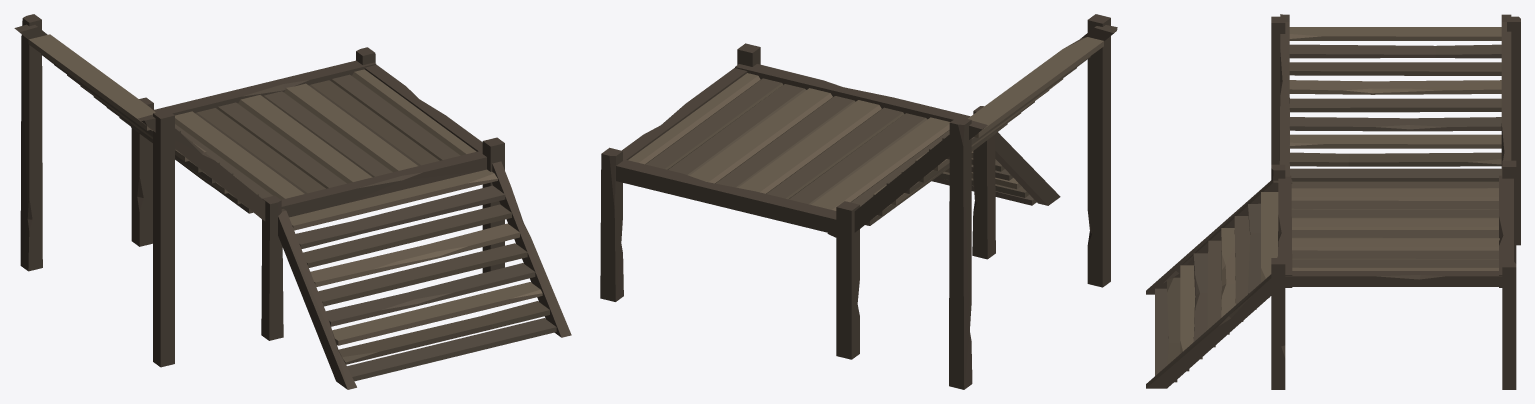
File: SM_Bld_House_Stairs_02.fbx
3 views of the same model, side by side, from view 1: azimuth 30°, elevation 25°; view 2: azimuth 150°, elevation 25°; view 3: azimuth 270°, elevation 25° (orthographic). The views are drawn at different scales.
Visible parts, largest first — view 1: SM_Bld_House_Stairs_02; view 2: SM_Bld_House_Stairs_02; view 3: SM_Bld_House_Stairs_02.
Part boxes in pixels (x1,y1,x2,y2): SM_Bld_House_Stairs_02: [14, 14, 571, 389]; SM_Bld_House_Stairs_02: [600, 14, 1117, 389]; SM_Bld_House_Stairs_02: [1146, 14, 1520, 389].
Bounding box in the file's own units: 392 × 261 × 398.
